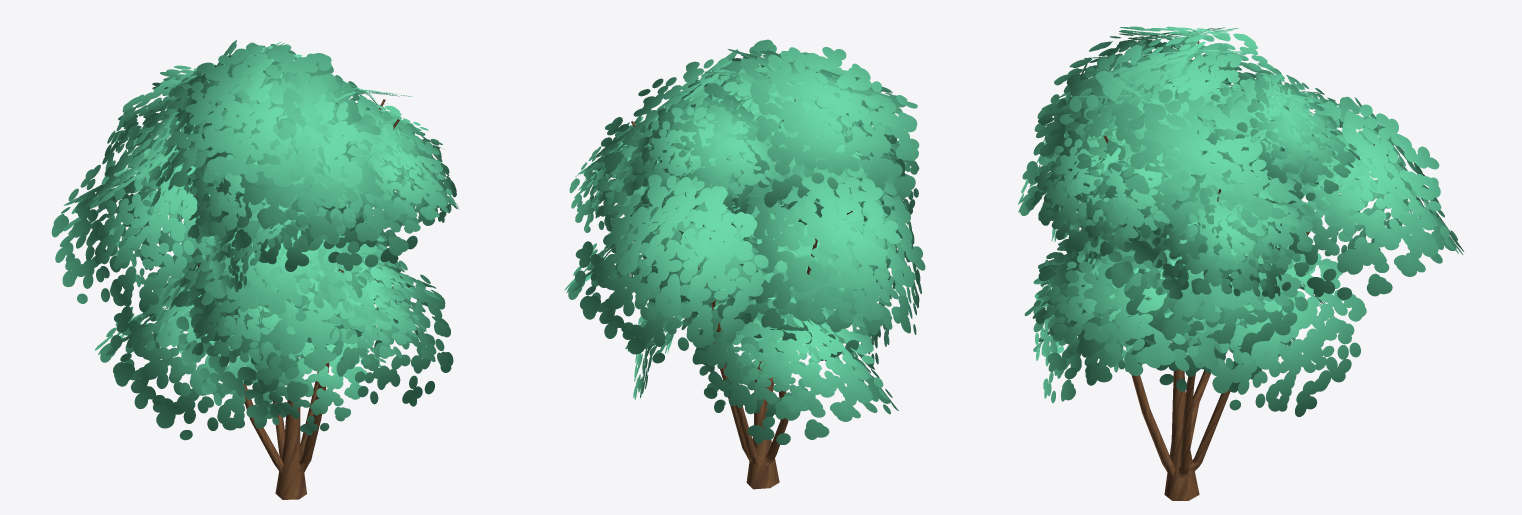
The model's file is bush02.glb.
The picture shows the model from 3 angles, left to right: view 1: azimuth 30°, elevation 25°; view 2: azimuth 150°, elevation 25°; view 3: azimuth 270°, elevation 25°; orthographic projection. The views are drawn at different scales.
Parts seen in each view (by area): view 1: Bush02_LOD1; view 2: Bush02_LOD1; view 3: Bush02_LOD1.
Part boxes in pixels (left/top/right/bottom): Bush02_LOD1: left=51, top=40, right=458, bottom=499; Bush02_LOD1: left=564, top=39, right=925, bottom=489; Bush02_LOD1: left=1018, top=26, right=1464, bottom=500.
Size of what is drawn, in the model's own units: 2.3 by 2.55 by 2.5.
2 materials, 2 textured.
